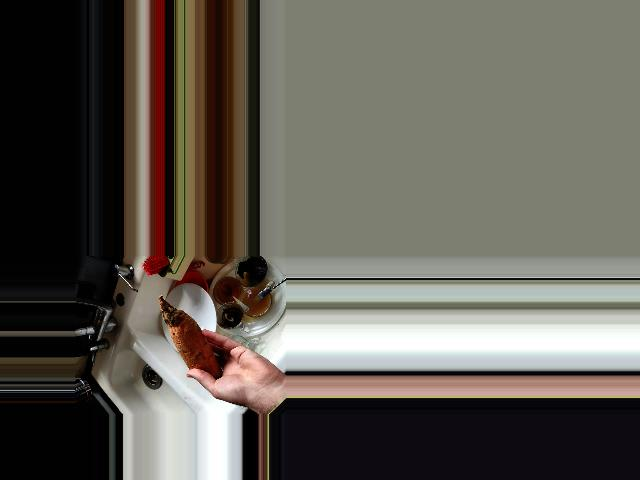sweet_potato: (158, 294, 226, 386)
